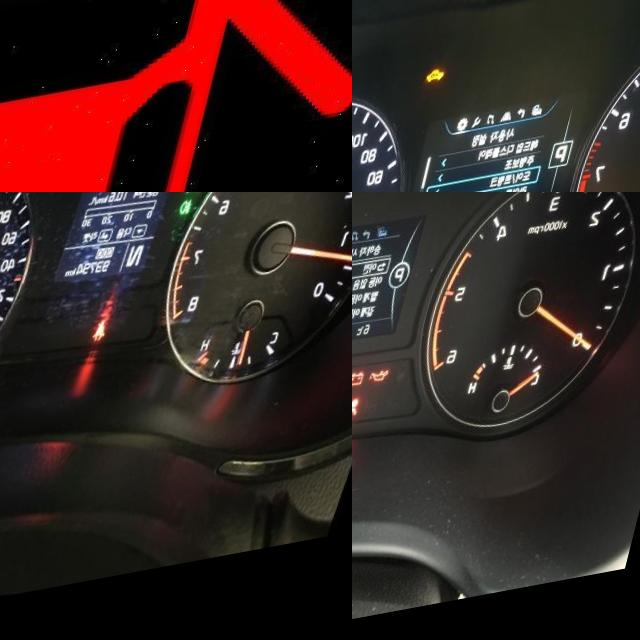FrontFogLight: (192, 210, 209, 230)
SideLamp: (197, 192, 220, 209), (396, 192, 417, 198)
